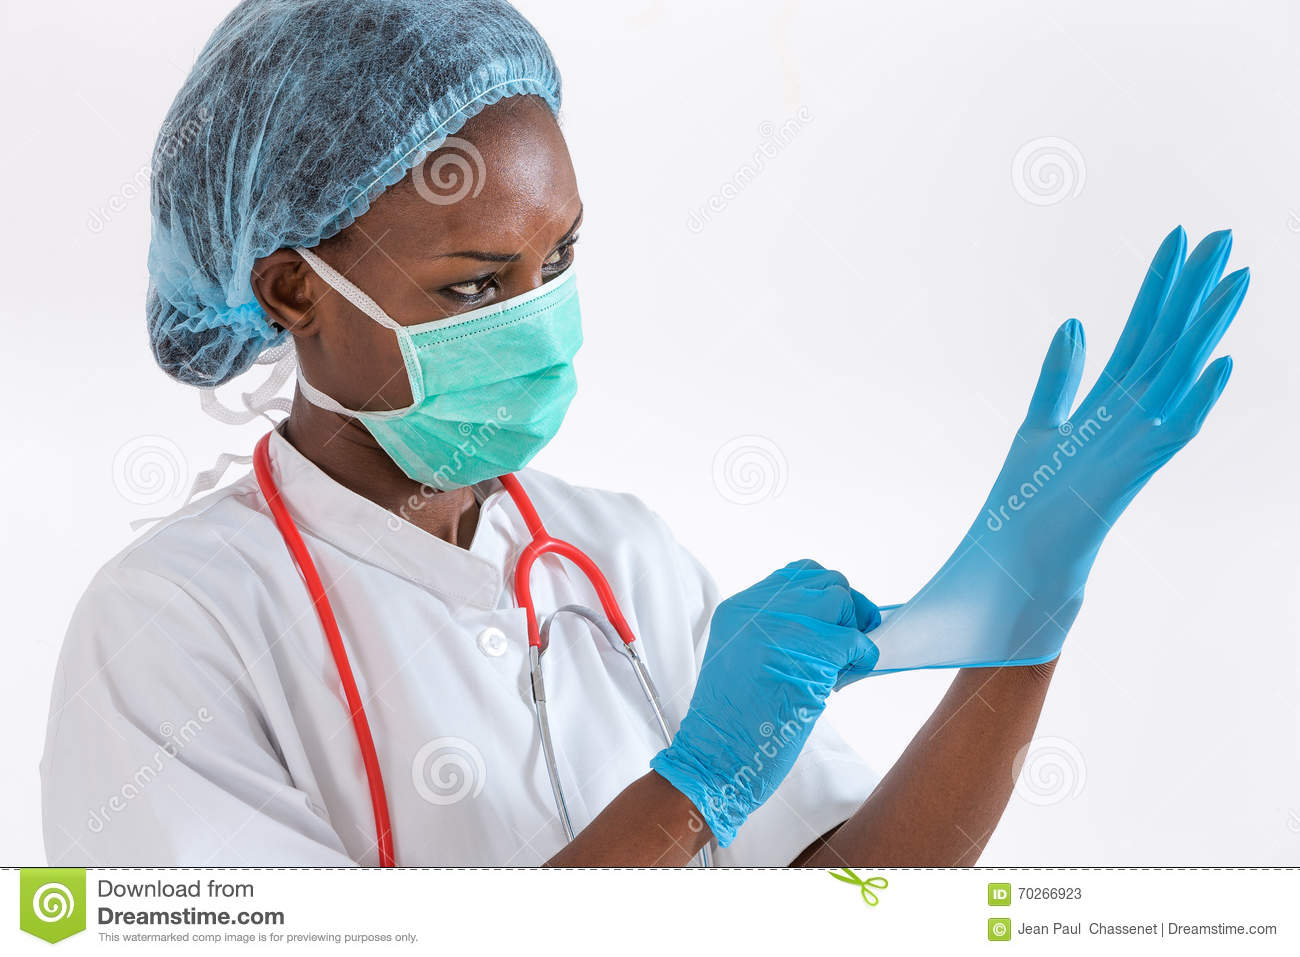mask: (351, 282, 610, 515)
